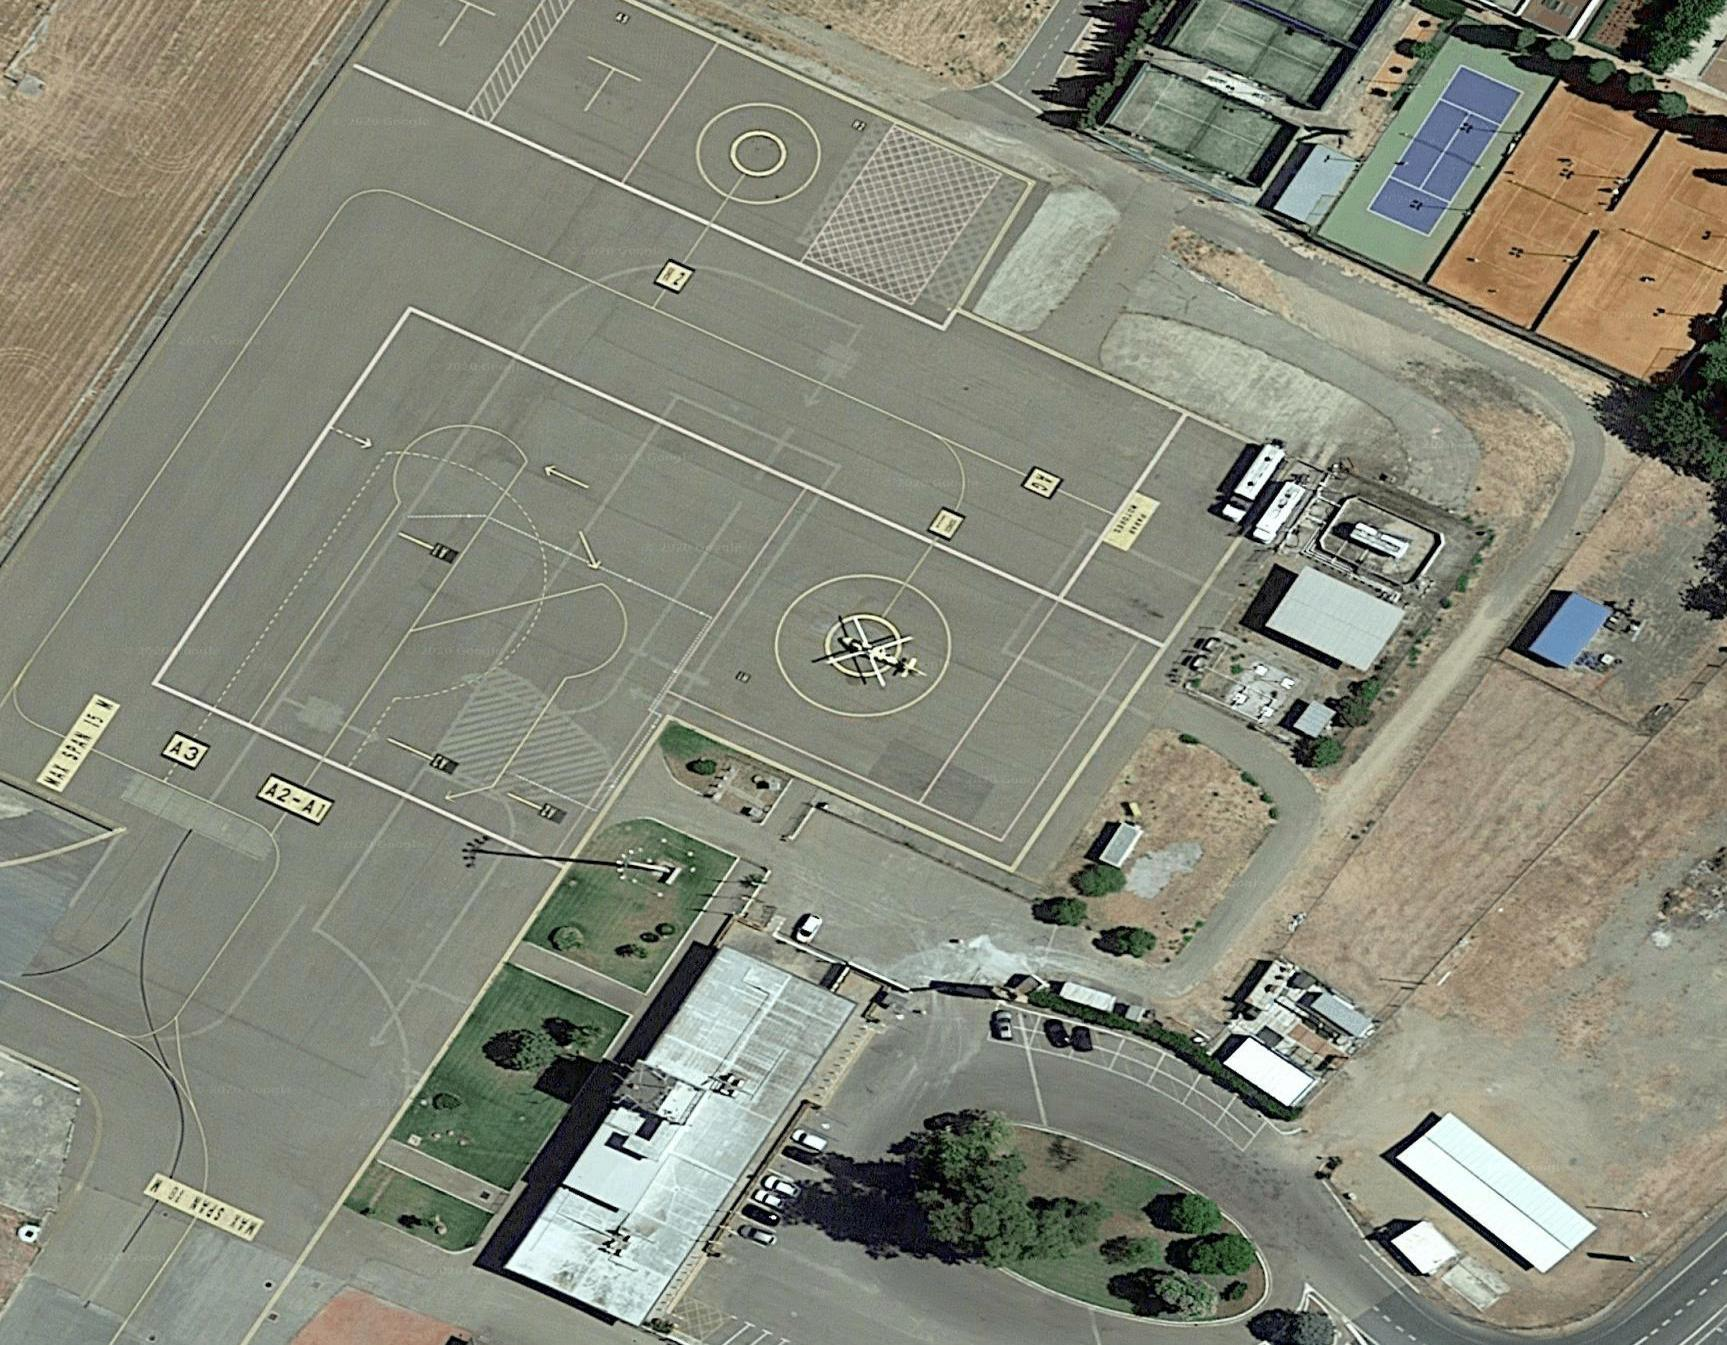helicopter: (820, 611, 918, 684)
helipad: (770, 574, 960, 712)
large-vehicle: (1248, 468, 1311, 555), (1227, 438, 1288, 518)
small-vehicle: (735, 1217, 778, 1248), (788, 912, 824, 948)
tennis-court: (1367, 58, 1528, 243)
